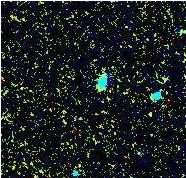star: (132, 77, 162, 107)
